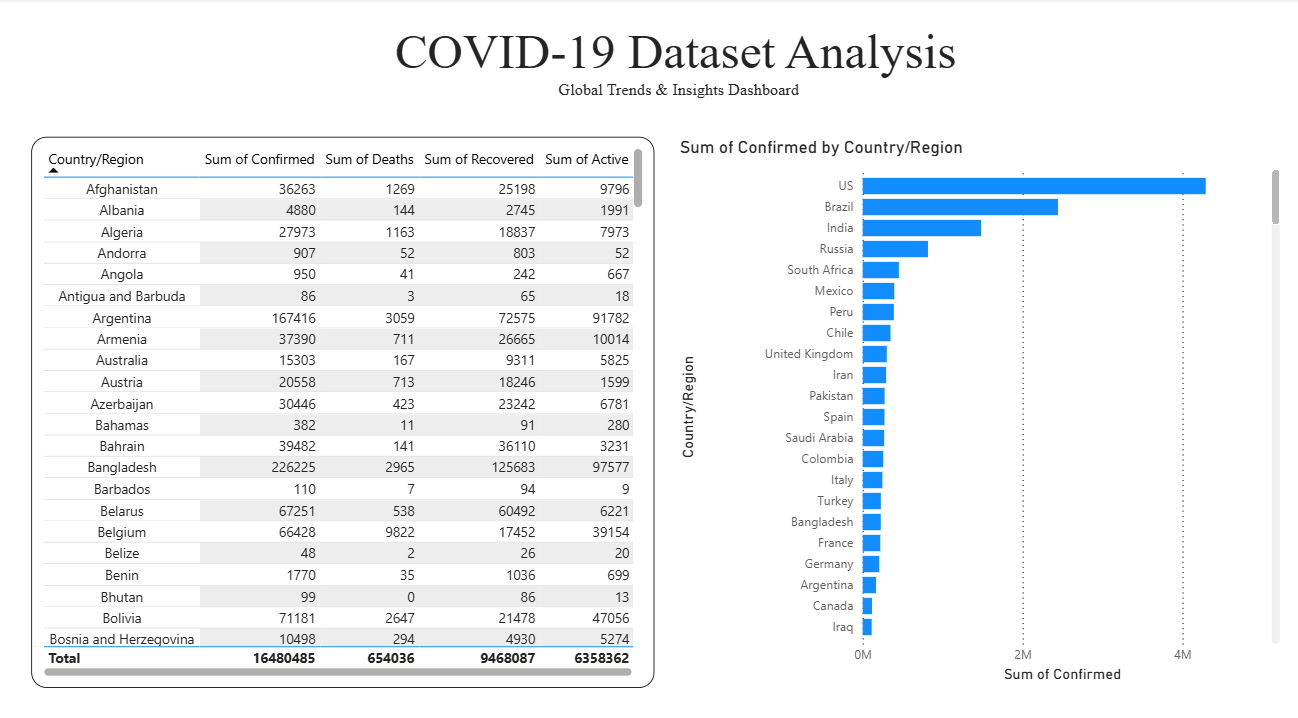

The page's visual inventory and layout, read from the dashboard file:
{"tool":"powerbi","page":{"name":"Page 1","canvas":[1280,720],"ordinal":0},"visuals":[{"type":"tableEx","fields":{"Values":["country_wise_latest.Country/Region","Sum(country_wise_latest.Confirmed)","Sum(country_wise_latest.Deaths)","Sum(country_wise_latest.Recovered)","Sum(country_wise_latest.Active)"]},"box":[30.2,135.8,609.3,539.3],"z":0},{"type":"clusteredBarChart","fields":{"Category":["country_wise_latest.Country/Region"],"Y":["Sum(country_wise_latest.Confirmed)"]},"box":[660,135.8,596.9,539.3],"z":1000},{"type":"textbox","box":[369.1,20.6,590.1,78.2],"z":2000}]}

Visuals, with their boxes in screenshot pixels (x1, y1, x2, y2), scaled from the page's 1280x720 canvas onto the 1298x718 screenshot:
tableEx - country_wise_latest.Country/Region x Sum(country_wise_latest.Confirmed): [x1=31, y1=135, x2=648, y2=673]
clusteredBarChart - country_wise_latest.Country/Region x Sum(country_wise_latest.Confirmed): [x1=669, y1=135, x2=1275, y2=673]
textbox: [x1=374, y1=21, x2=973, y2=99]
